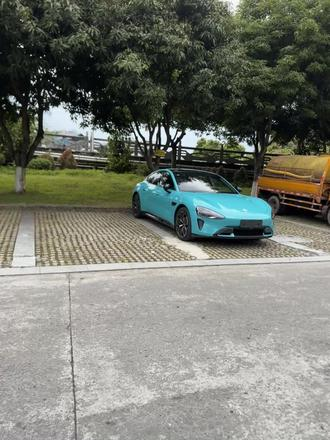su7: (130, 162, 275, 246)
